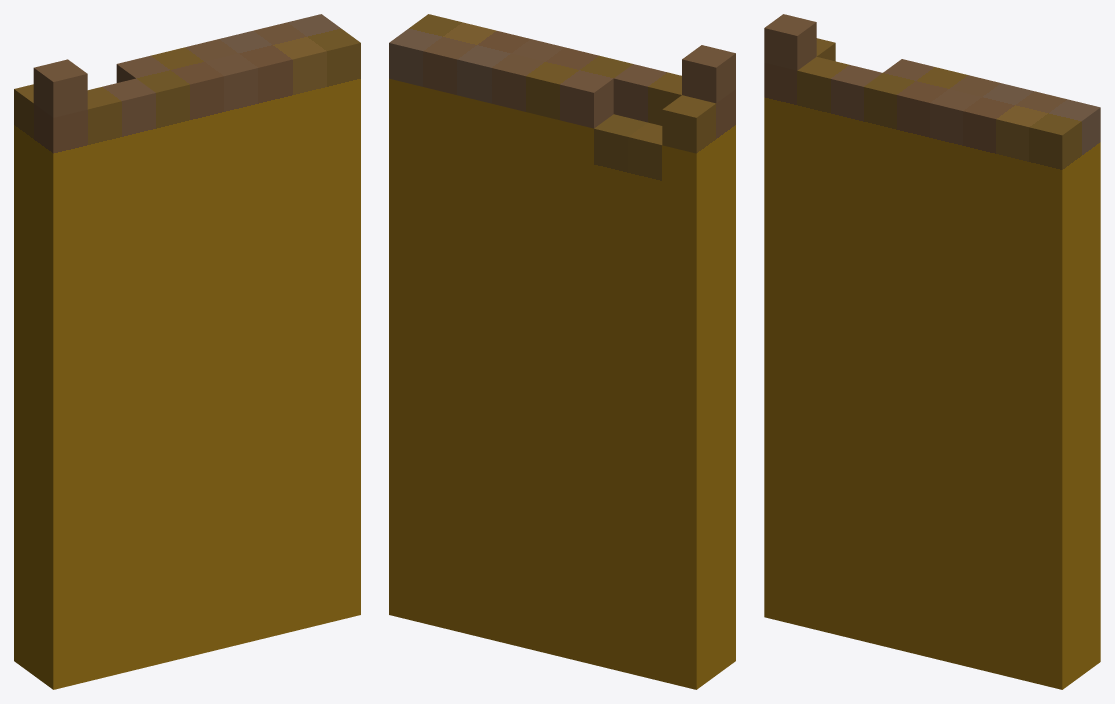
The model's file is wasteland_h.gltf.
3 views of the same model, side by side, from view 1: azimuth 30°, elevation 25°; view 2: azimuth 150°, elevation 25°; view 3: azimuth 330°, elevation 25° (orthographic). The views are drawn at different scales.
Parts seen in each view (by area): view 1: Content-Mesh; view 2: Content-Mesh; view 3: Content-Mesh.
Boxes of the visible parts, left/top/right/bottom form: Content-Mesh: left=14, top=14, right=360, bottom=689; Content-Mesh: left=389, top=14, right=735, bottom=689; Content-Mesh: left=764, top=14, right=1100, bottom=689.
Size of the model in its own units: 9 by 17 by 2.
1 material, 1 textured.
